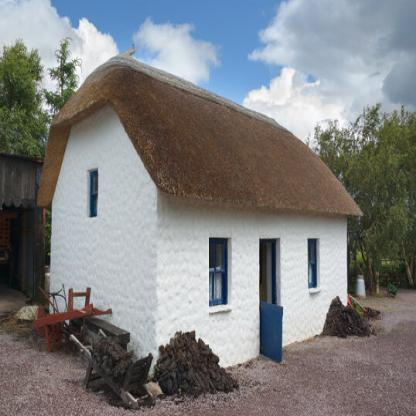Building Outline: (37, 49, 363, 394)
Dont: (32, 282, 240, 411), (319, 295, 374, 340)
Door: (259, 238, 281, 356)
Facade: (157, 187, 347, 393)
Floor: (157, 187, 347, 393)
Roof: (37, 49, 363, 217)
Window: (208, 237, 231, 310), (308, 238, 319, 289)
